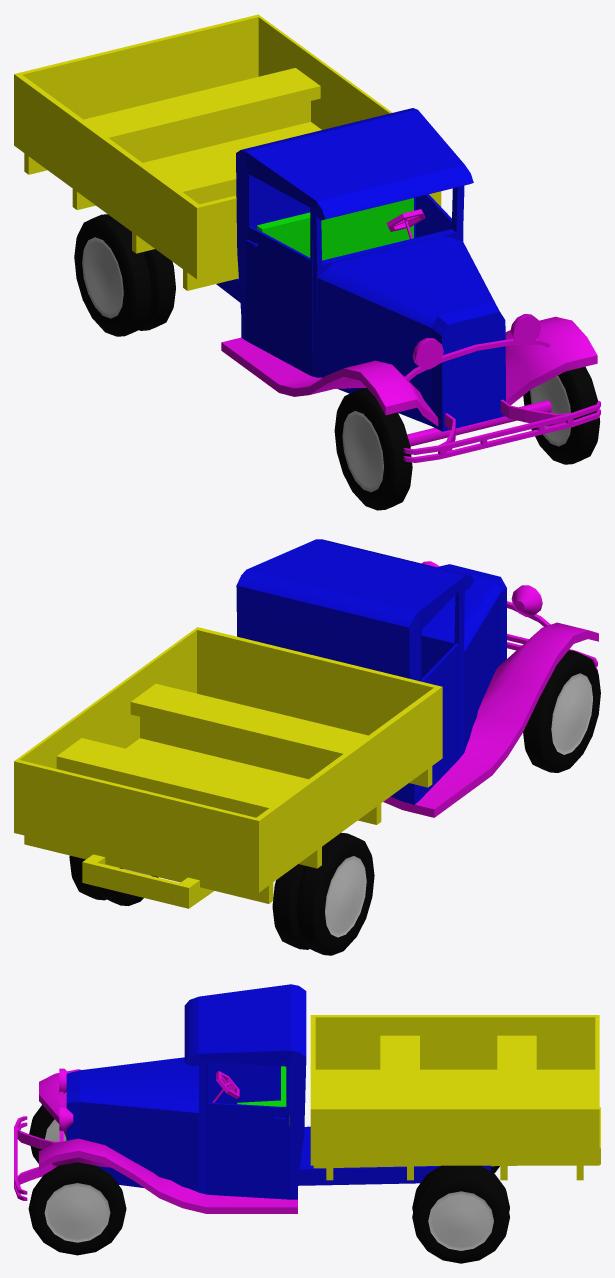
Rendered from GAZ_AA_Militar.fbx.
The picture shows the model from 3 angles, top to bottom: view 1: azimuth 30°, elevation 25°; view 2: azimuth 150°, elevation 25°; view 3: azimuth 270°, elevation 25°; orthographic projection. The views are drawn at different scales.
Parts seen in each view (by area): view 1: GAZ_AA_Madeira, GAZ_AA_Corpo, GAZ_AA_Metal_Escuro, GAZ_AA_Roda_Trazeira_R, GAZ_AA_Porta_R, GAZ_AA_Roda_Frontal_R, GAZ_AA_Banco, GAZ_AA_Roda_Frontal_L, GAZ_AA_Porta_L; view 2: GAZ_AA_Madeira, GAZ_AA_Corpo, GAZ_AA_Metal_Escuro, GAZ_AA_Roda_Trazeira_R, GAZ_AA_Roda_Frontal_R, GAZ_AA_Porta_R, GAZ_AA_Roda_Trazeira_L; view 3: GAZ_AA_Madeira, GAZ_AA_Corpo, GAZ_AA_Metal_Escuro, GAZ_AA_Roda_Trazeira_L, GAZ_AA_Roda_Frontal_L, GAZ_AA_Porta_L, GAZ_AA_Porta_R, GAZ_AA_Roda_Frontal_R, GAZ_AA_Banco.
Part boxes in pixels (x1,y1,x2,y2): GAZ_AA_Madeira: [14, 14, 441, 290]; GAZ_AA_Corpo: [216, 108, 505, 431]; GAZ_AA_Metal_Escuro: [221, 209, 600, 462]; GAZ_AA_Roda_Trazeira_R: [74, 214, 175, 336]; GAZ_AA_Porta_R: [246, 170, 312, 353]; GAZ_AA_Roda_Frontal_R: [334, 388, 412, 510]; GAZ_AA_Banco: [257, 198, 413, 260]; GAZ_AA_Roda_Frontal_L: [523, 366, 600, 464]; GAZ_AA_Porta_L: [415, 194, 451, 237]; GAZ_AA_Madeira: [14, 627, 442, 908]; GAZ_AA_Corpo: [236, 539, 506, 804]; GAZ_AA_Metal_Escuro: [383, 561, 598, 817]; GAZ_AA_Roda_Trazeira_R: [272, 832, 374, 955]; GAZ_AA_Roda_Frontal_R: [523, 650, 600, 772]; GAZ_AA_Porta_R: [420, 589, 459, 753]; GAZ_AA_Roda_Trazeira_L: [69, 855, 158, 905]; GAZ_AA_Madeira: [310, 1015, 600, 1180]; GAZ_AA_Corpo: [66, 984, 490, 1199]; GAZ_AA_Metal_Escuro: [14, 1068, 297, 1213]; GAZ_AA_Roda_Trazeira_L: [412, 1165, 509, 1263]; GAZ_AA_Roda_Frontal_L: [28, 1162, 126, 1255]; GAZ_AA_Porta_L: [206, 1060, 290, 1181]; GAZ_AA_Porta_R: [208, 1062, 280, 1104]; GAZ_AA_Roda_Frontal_R: [29, 1105, 66, 1163]; GAZ_AA_Banco: [237, 1066, 289, 1125].
Size of the model in its own units: 208 by 200 by 534.
